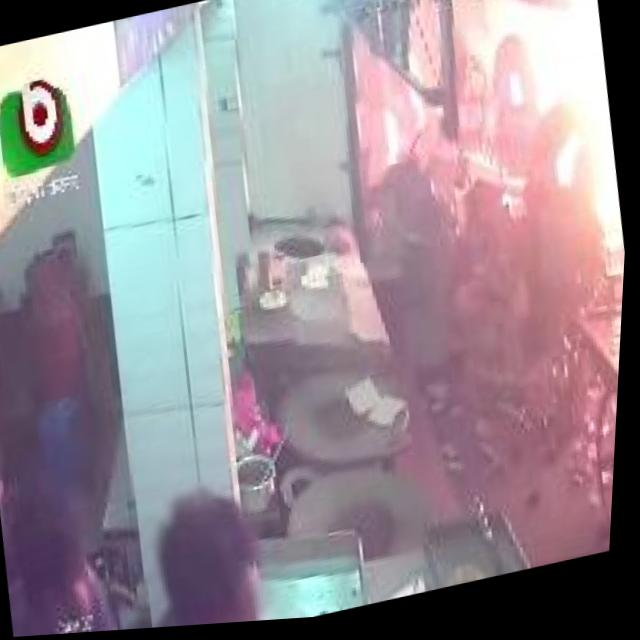fire: (466, 0, 639, 282)
